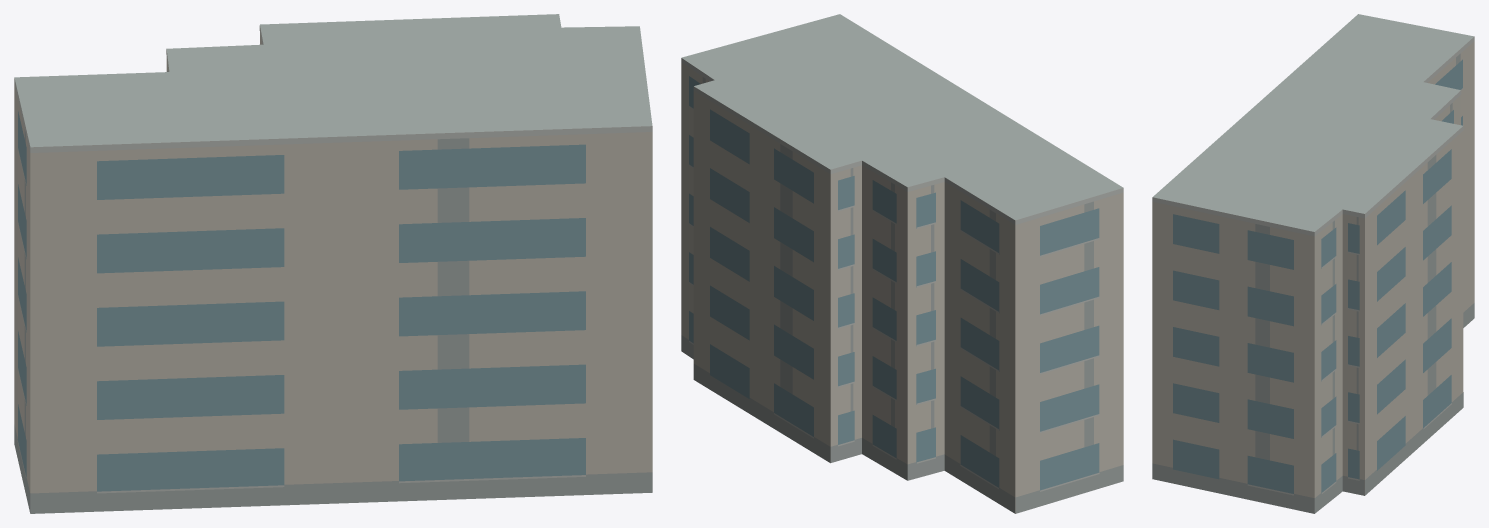
The model's file is survey-upis-32730885.glb.
The picture shows the model from 3 angles, left to right: view 1: azimuth 30°, elevation 25°; view 2: azimuth 150°, elevation 25°; view 3: azimuth 270°, elevation 25°; orthographic projection. The views are drawn at different scales.
Parts seen in each view (by area): view 1: survey-upis-32730885.tmp; view 2: survey-upis-32730885.tmp; view 3: survey-upis-32730885.tmp.
Boxes of the visible parts, x1,y1,x2,y2 form: survey-upis-32730885.tmp: (14, 14, 652, 513); survey-upis-32730885.tmp: (681, 14, 1123, 513); survey-upis-32730885.tmp: (1152, 14, 1474, 513).
Bounding box in the file's own units: 25.3 × 15.25 × 15.8.
